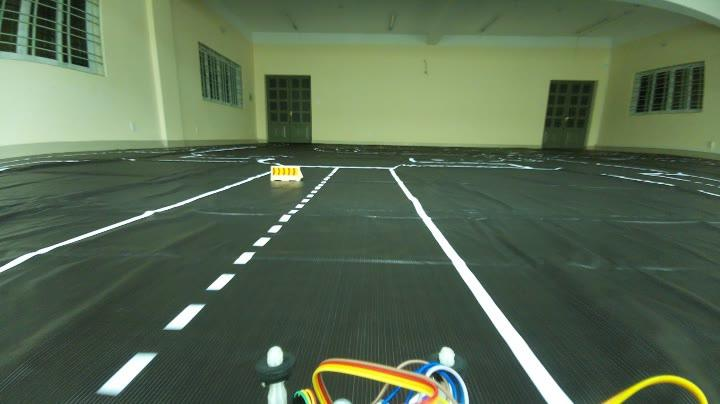roadblock: (268, 160, 301, 182)
